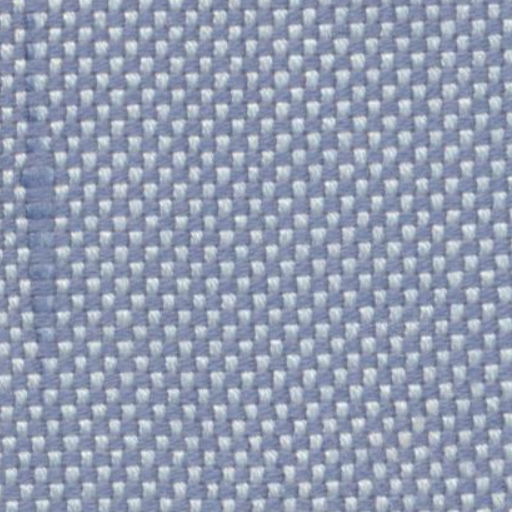DaiSha: (12, 22, 76, 352)
